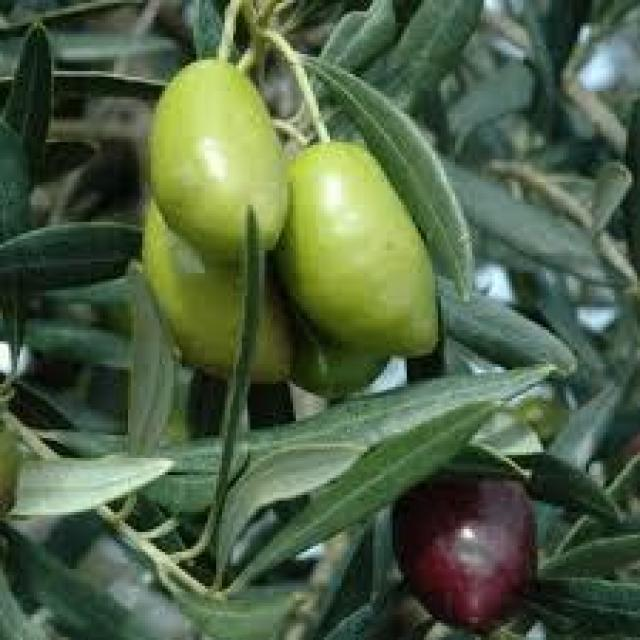Healthy: (276, 142, 438, 361), (148, 60, 287, 259), (395, 472, 535, 631)
